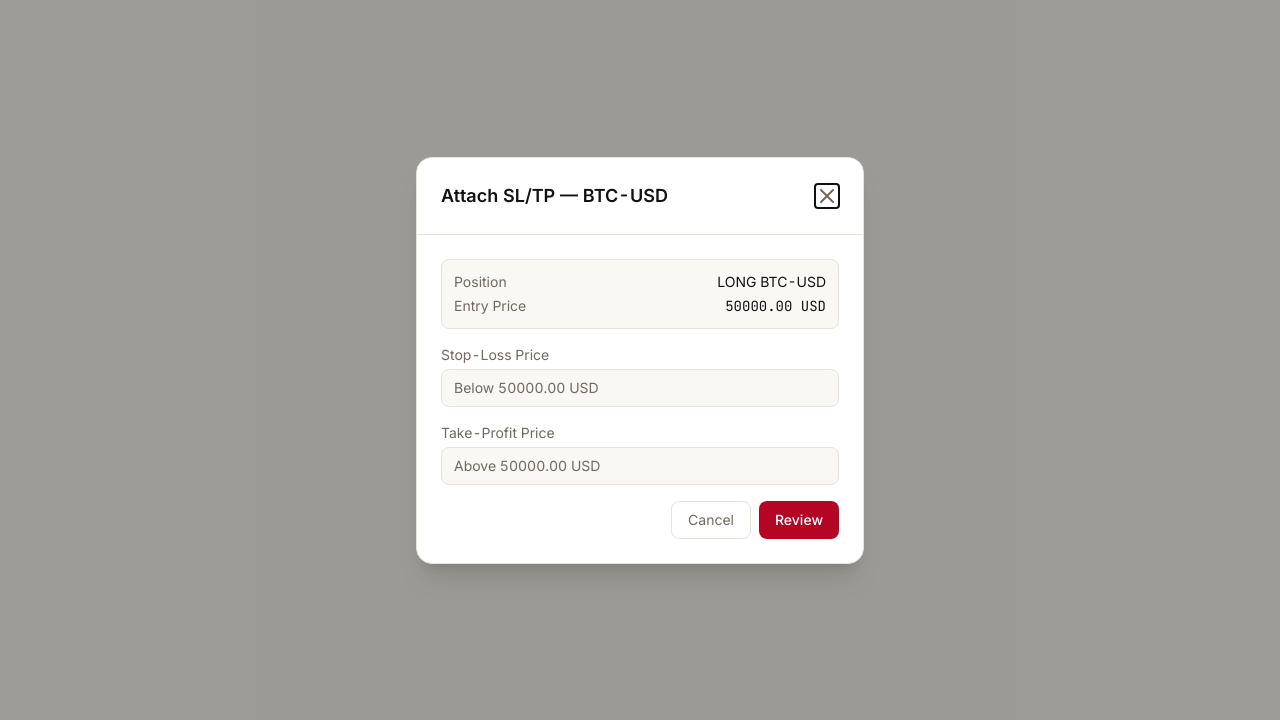
Test case: AttachBracketModal › requires at least one price
Click the button with test id "bracket-submit". click: (799, 520)
box: [759,500,839,538]
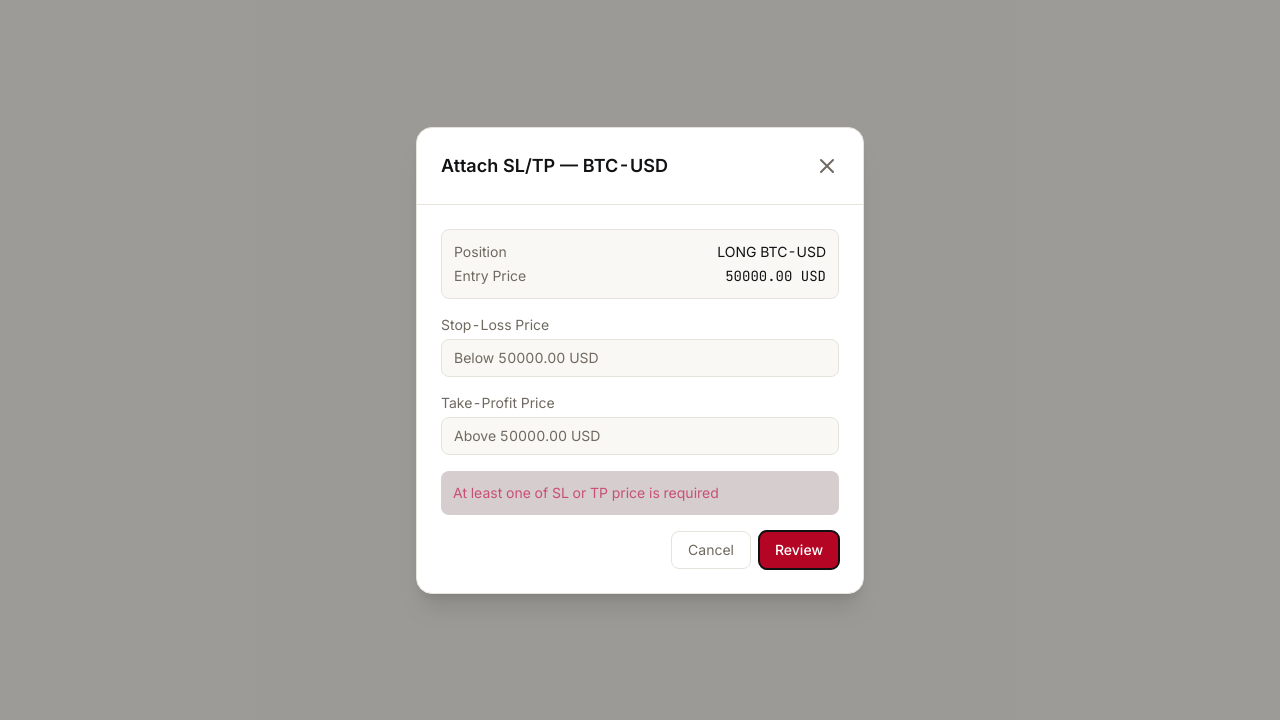
Now the text with test id "bracket-error" reads "At least one of SL or TP price is required", box [453,484,719,500]
